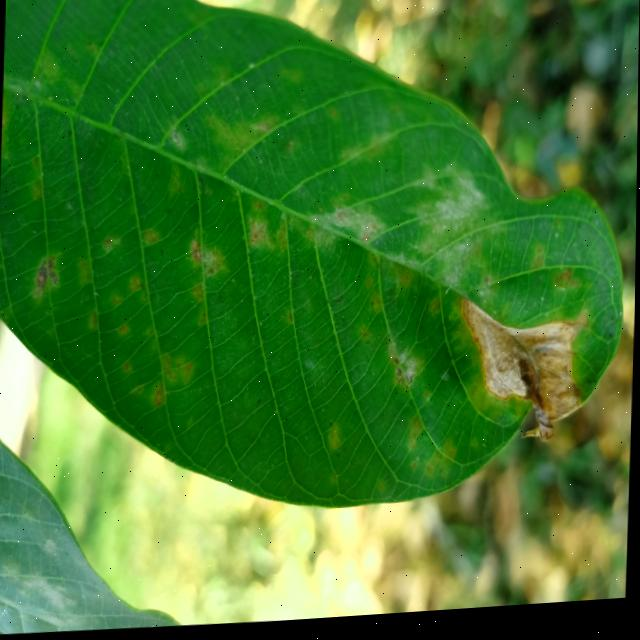Leaf-Blight: (458, 297, 587, 454)
